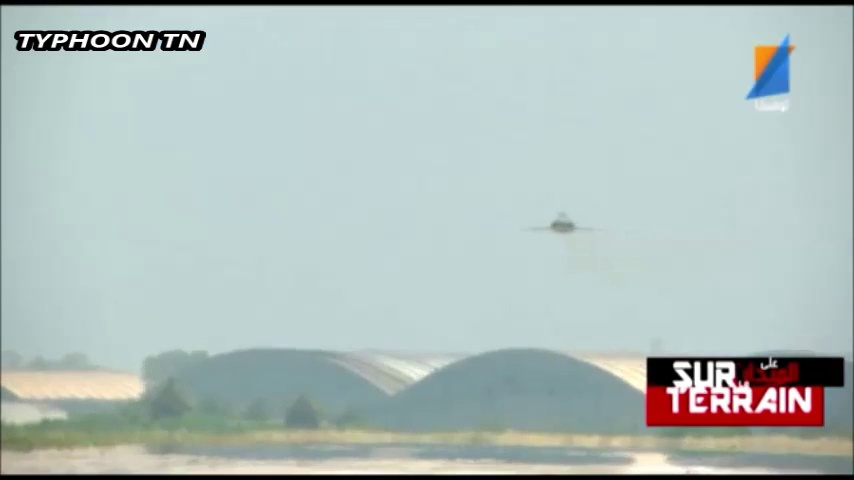Airplane: (526, 210, 597, 237)
